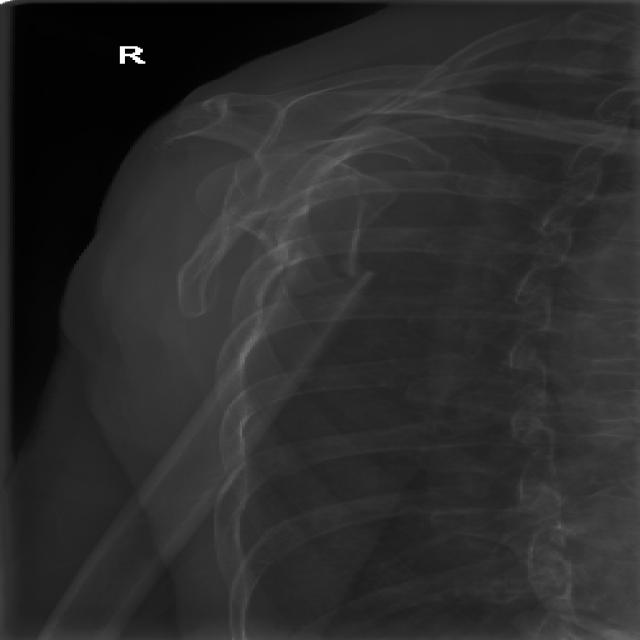shoulder fracture: (278, 242, 414, 320)
